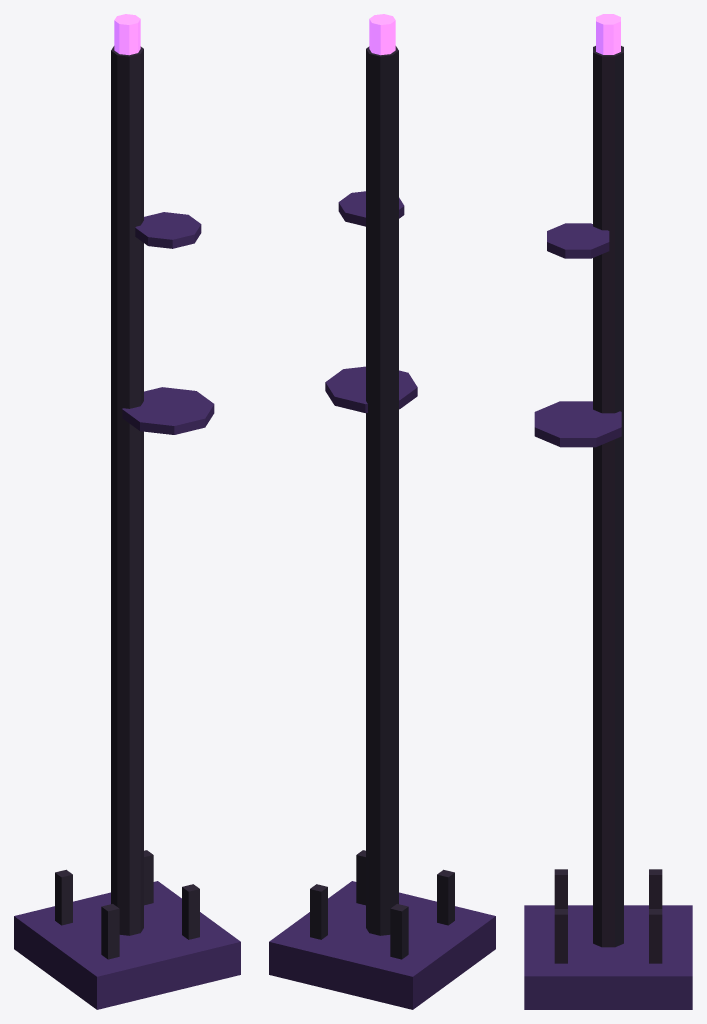
The model's file is shaddai_dist_void_b3_v01.glb.
3 renders of one model, left to right at view 1: azimuth 30°, elevation 25°; view 2: azimuth 150°, elevation 25°; view 3: azimuth 270°, elevation 25°, orthographic.
Parts seen in each view (by area): view 1: shaddai_dist_void_b3; view 2: shaddai_dist_void_b3; view 3: shaddai_dist_void_b3.
Boxes of the visible parts, x1,y1,x2,y2 form: shaddai_dist_void_b3: (14,14,240,1009); shaddai_dist_void_b3: (269,14,495,1009); shaddai_dist_void_b3: (524,14,692,1009).
Size of the model in its own units: 5 by 31.3 by 5.
